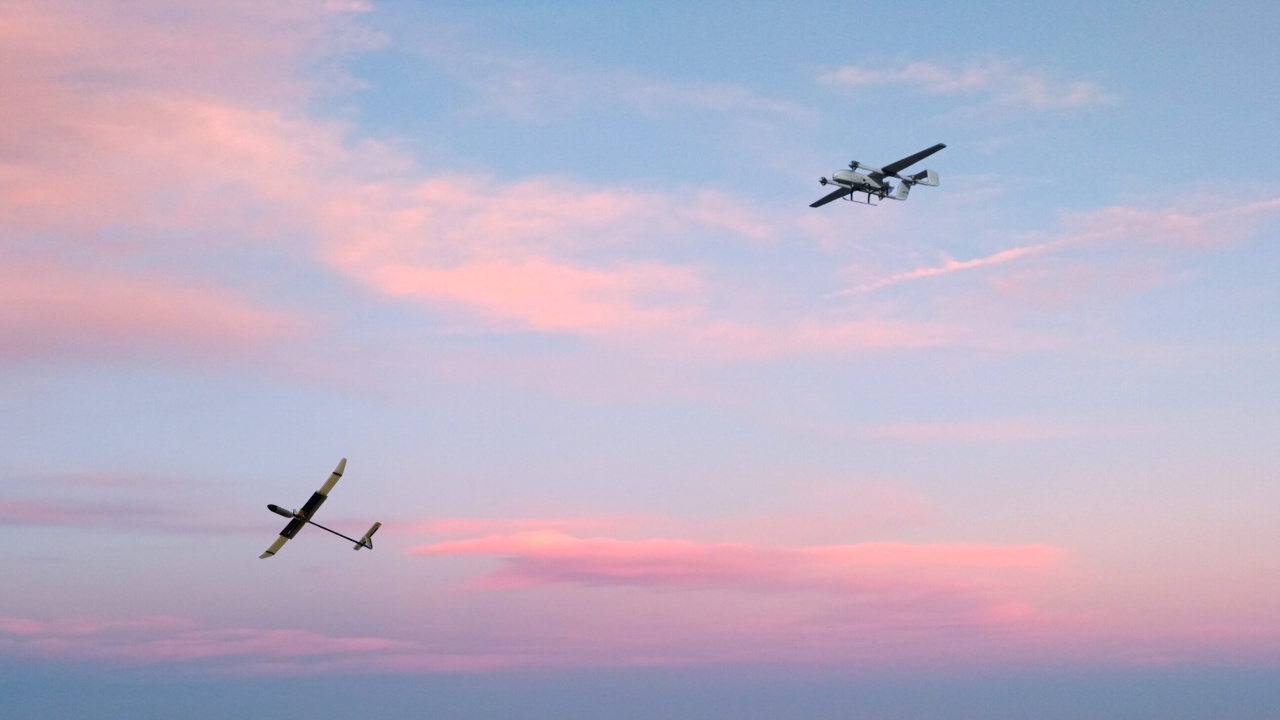military drone: (257, 457, 381, 559), (808, 142, 946, 208)
